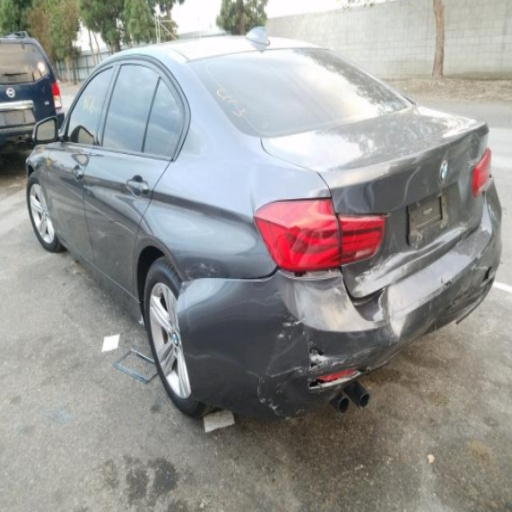dent: (337, 135, 481, 294), (256, 356, 361, 417), (445, 260, 498, 314), (267, 314, 303, 364), (374, 288, 405, 346), (397, 310, 442, 347)
scratch: (272, 346, 373, 378), (247, 370, 304, 420), (351, 253, 404, 297), (185, 263, 219, 279), (282, 316, 306, 328), (480, 271, 495, 286), (474, 246, 490, 260), (273, 378, 286, 394), (388, 325, 398, 345), (470, 263, 487, 272), (330, 285, 342, 294), (426, 301, 432, 316), (274, 331, 285, 339), (287, 331, 295, 339)
